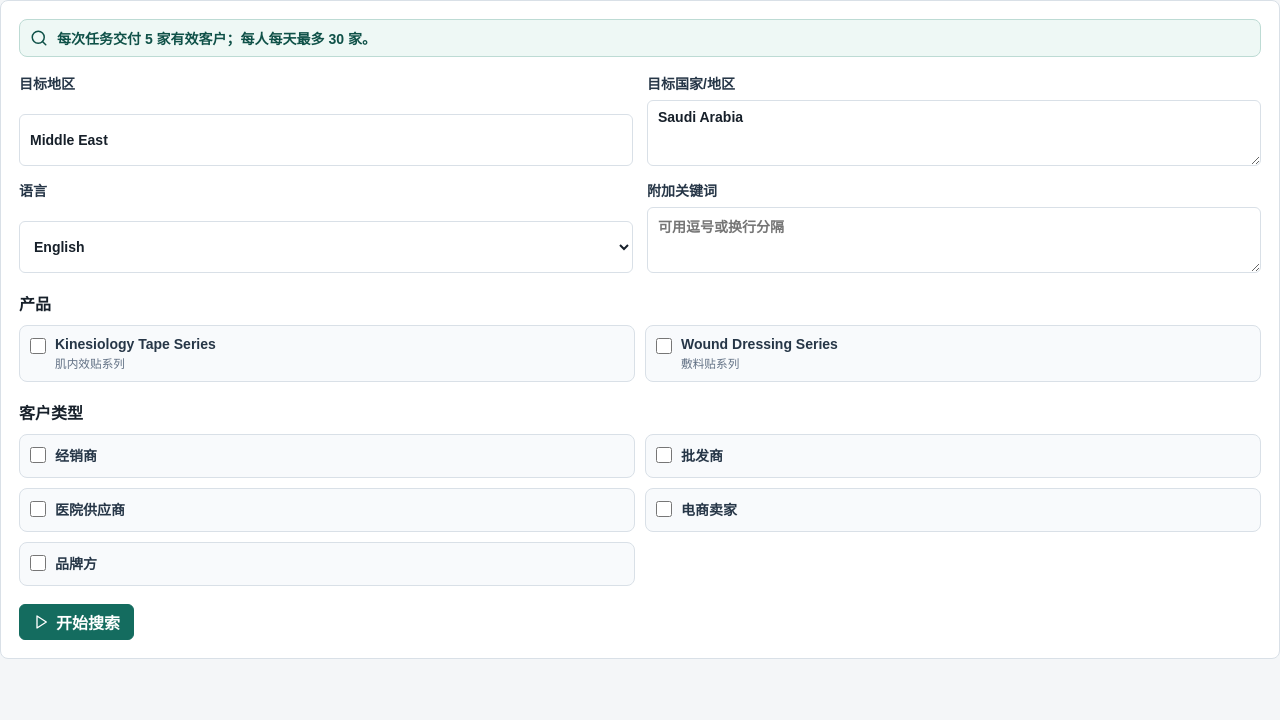
Scenario: TaskForm › shows API error message for 400 responses
Click the checkbox labelled "Kinesiology Tape Series" at (38, 346), box [30, 338, 46, 354]
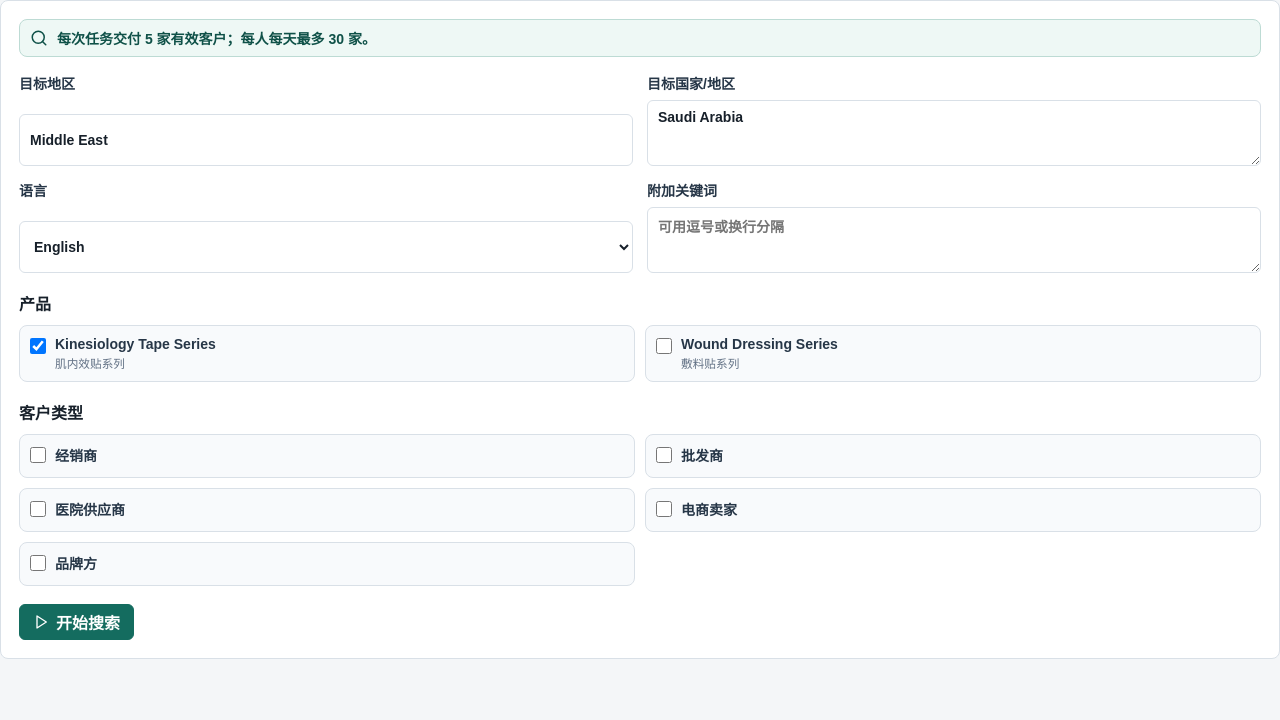
Click the checkbox labelled "经销商" at (38, 455), box [30, 447, 46, 463]
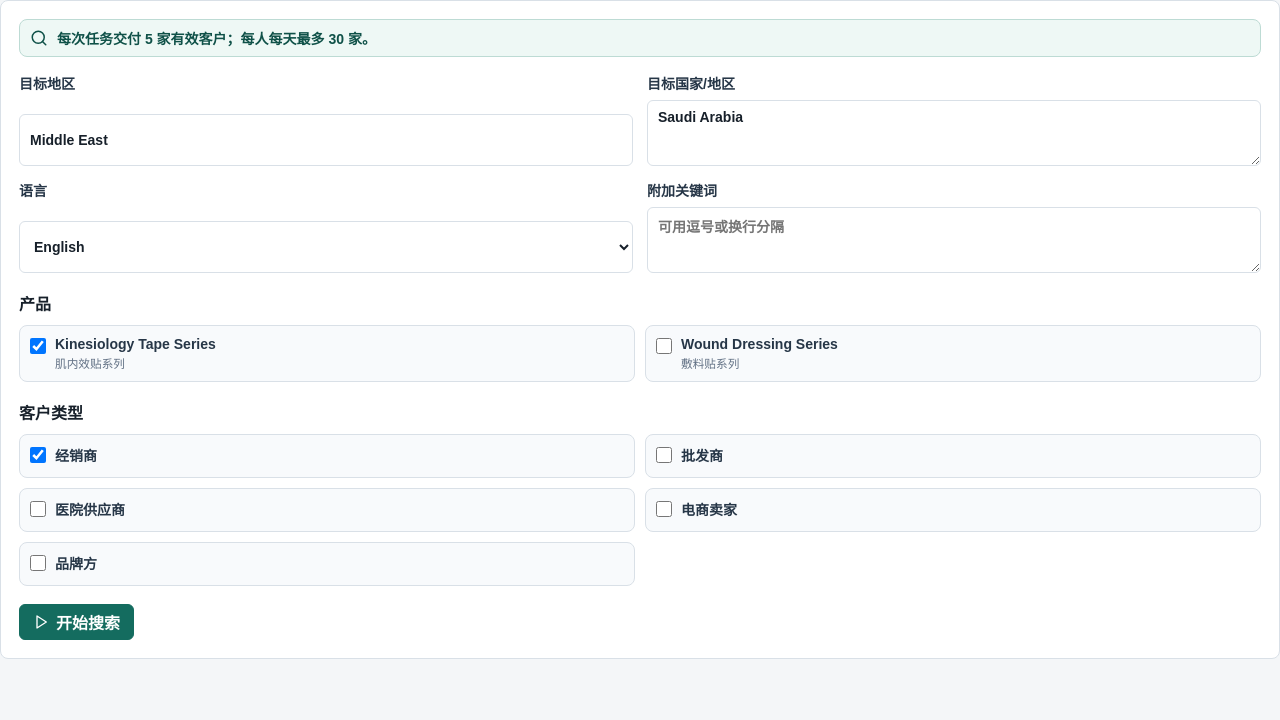
Click the button "开始搜索" at (76, 622), box [19, 604, 134, 640]
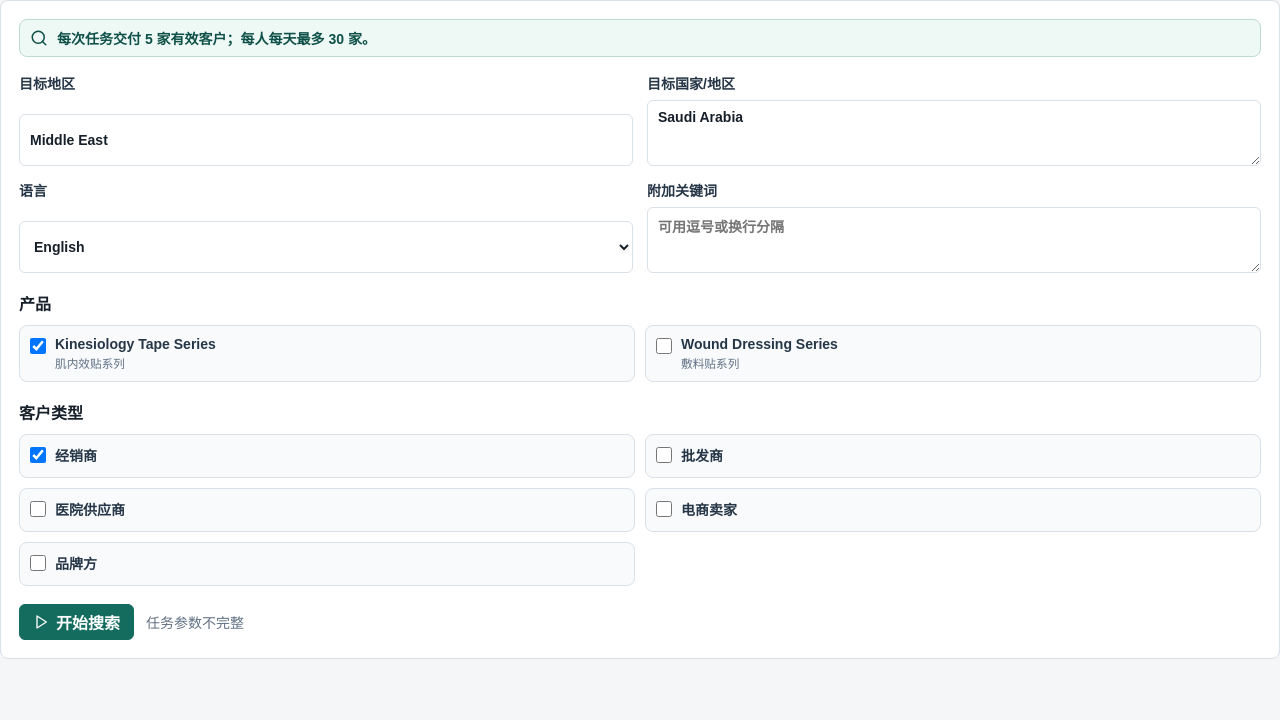
Now the text "任务参数不完整" is shown, box [146, 612, 244, 632]
